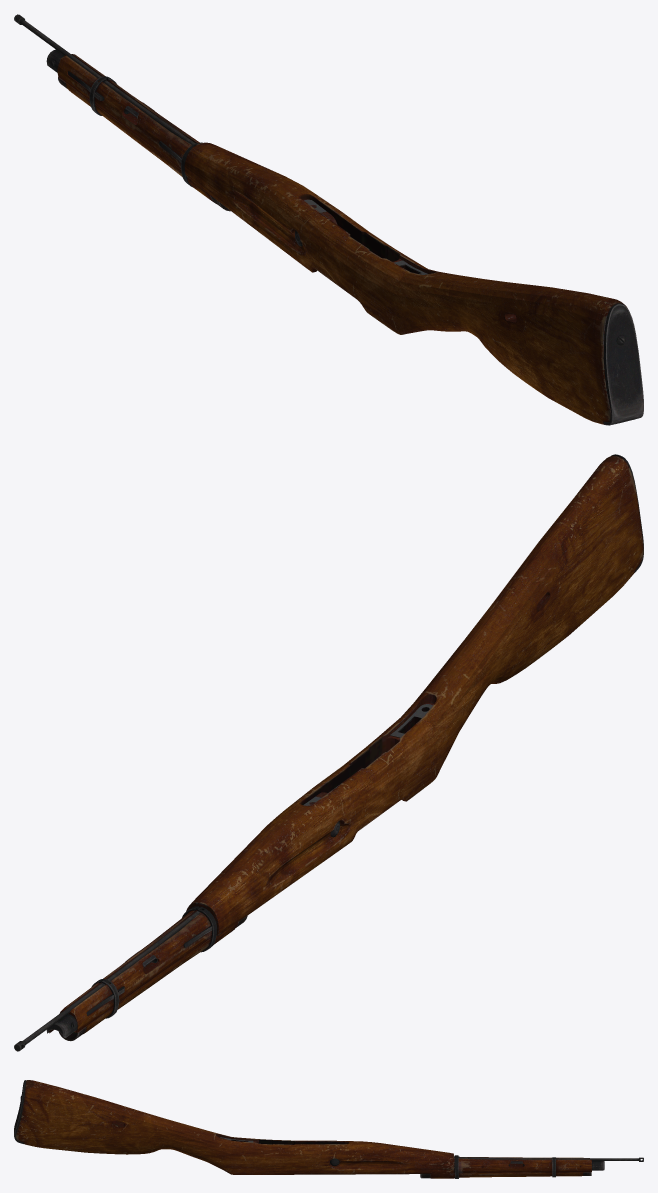
The picture shows the model from 3 angles, top to bottom: view 1: azimuth 30°, elevation 25°; view 2: azimuth 150°, elevation 25°; view 3: azimuth 270°, elevation 25°; orthographic projection. The views are drawn at different scales.
Parts seen in each view (by area): view 1: TW_5bfd384c0db834001a6691d3_PZ_Import; view 2: TW_5bfd384c0db834001a6691d3_PZ_Import; view 3: TW_5bfd384c0db834001a6691d3_PZ_Import.
Boxes of the visible parts, x1,y1,x2,y2 form: TW_5bfd384c0db834001a6691d3_PZ_Import: (14, 14, 643, 425); TW_5bfd384c0db834001a6691d3_PZ_Import: (14, 454, 643, 1051); TW_5bfd384c0db834001a6691d3_PZ_Import: (14, 1080, 643, 1178).
Bounding box in the file's own units: 0.0254 × 0.5892 × 0.1006.
1 material, 1 textured.
